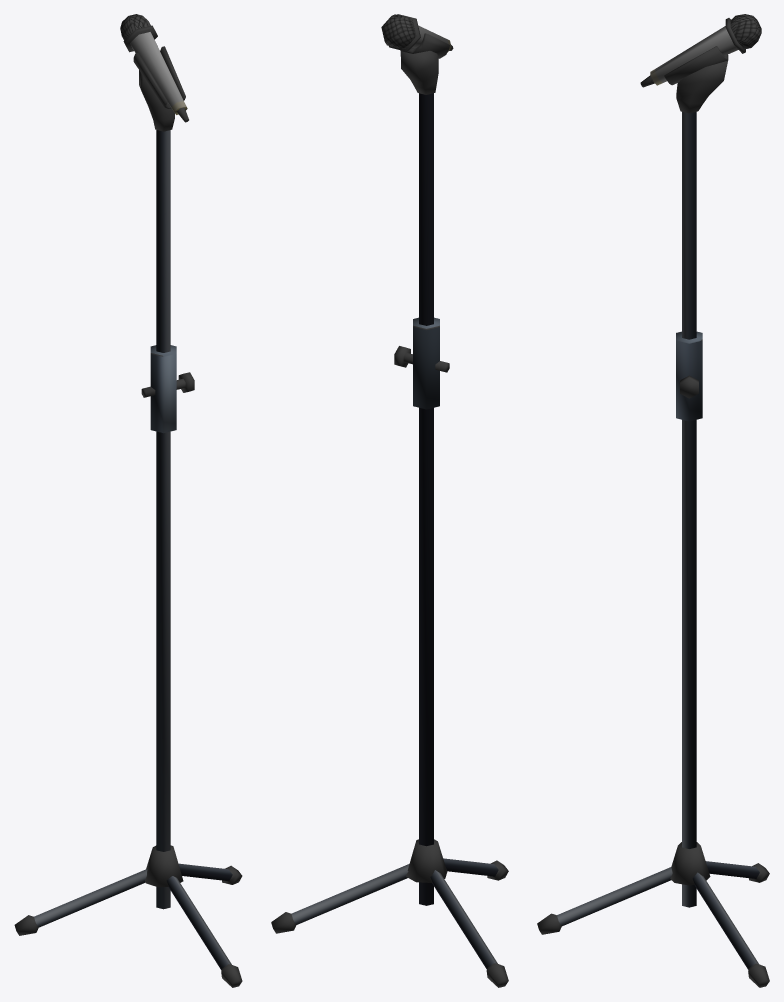
File: Weapon_HuaTong_fbx.FBX
The picture shows the model from 3 angles, left to right: view 1: azimuth 30°, elevation 25°; view 2: azimuth 150°, elevation 25°; view 3: azimuth 270°, elevation 25°; orthographic projection. The views are drawn at different scales.
Visible parts, largest first — view 1: HuaTong; view 2: HuaTong; view 3: HuaTong.
Part boxes in pixels (bbox=[...]): HuaTong: bbox=[14, 14, 242, 987]; HuaTong: bbox=[271, 14, 508, 987]; HuaTong: bbox=[537, 14, 769, 987].
Bounding box in the file's own units: 0.4097 × 1.55 × 0.3578.
